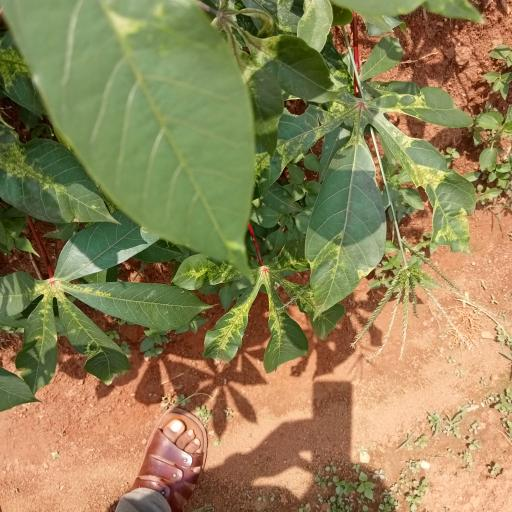Cassava_Healthy: (0, 222, 203, 375)
